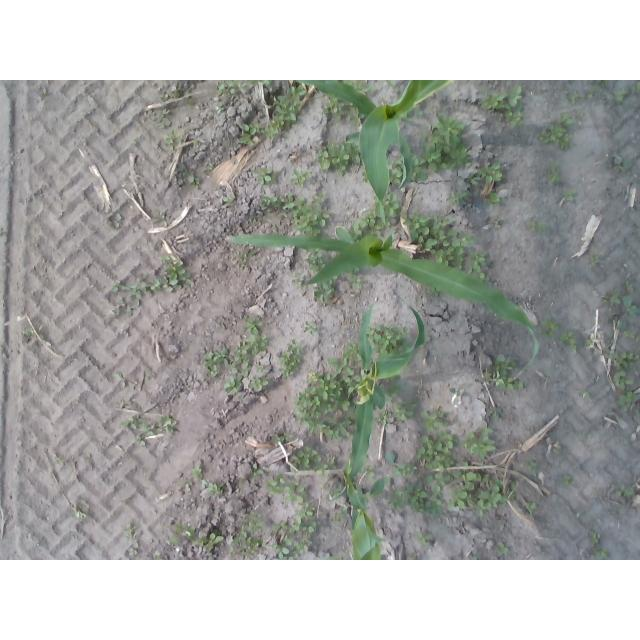Maize: (225, 226, 540, 383), (299, 80, 454, 224), (350, 288, 427, 535), (343, 456, 393, 560)
Weeds: (110, 253, 192, 316), (294, 358, 355, 441), (452, 461, 517, 516), (262, 192, 331, 236), (270, 501, 318, 560), (389, 473, 450, 519), (421, 115, 470, 170), (404, 212, 476, 248), (119, 414, 178, 447), (482, 87, 523, 130), (230, 510, 265, 560), (169, 524, 224, 552), (416, 430, 456, 468), (483, 354, 525, 390), (319, 141, 362, 175), (275, 84, 306, 128), (292, 447, 336, 476), (369, 451, 397, 494), (267, 473, 305, 504), (368, 325, 410, 353), (609, 296, 640, 333), (279, 339, 306, 378), (462, 427, 497, 457), (232, 334, 268, 363), (223, 363, 249, 395), (203, 348, 229, 379), (350, 213, 381, 239), (539, 126, 570, 151), (604, 350, 640, 369), (423, 409, 449, 430), (477, 163, 504, 182), (432, 248, 464, 264), (391, 401, 417, 420), (470, 250, 487, 278), (449, 382, 467, 406), (612, 371, 634, 390), (217, 80, 246, 94), (234, 247, 254, 266), (290, 168, 311, 186), (324, 95, 345, 113), (389, 159, 403, 186), (201, 479, 222, 497), (116, 371, 137, 389), (243, 316, 264, 334), (386, 375, 403, 397), (313, 283, 332, 302), (345, 342, 363, 362), (122, 524, 143, 541), (384, 195, 401, 216), (162, 131, 180, 150), (307, 251, 325, 270), (248, 376, 268, 393), (617, 393, 639, 408), (253, 168, 272, 185), (615, 156, 634, 173), (331, 507, 350, 524), (445, 189, 468, 203), (238, 125, 254, 145), (152, 208, 168, 228), (414, 155, 427, 179), (548, 161, 561, 182), (603, 293, 622, 307), (270, 433, 294, 444), (418, 532, 435, 547), (357, 465, 374, 480), (126, 544, 141, 561), (543, 321, 557, 339), (346, 108, 362, 123), (560, 331, 577, 345), (618, 483, 635, 497), (397, 464, 416, 476), (490, 190, 508, 202), (529, 221, 548, 232), (353, 80, 370, 92), (303, 321, 317, 335), (350, 274, 363, 288), (263, 126, 278, 138), (251, 463, 263, 478), (177, 163, 185, 185), (524, 461, 538, 473), (589, 253, 600, 268), (374, 412, 386, 425), (110, 214, 122, 227), (291, 273, 304, 285), (589, 531, 599, 546), (495, 545, 510, 555), (188, 176, 200, 188), (560, 114, 573, 125), (523, 501, 537, 511), (566, 189, 577, 201), (467, 174, 479, 185), (158, 117, 171, 127), (559, 475, 570, 486), (222, 195, 234, 205), (625, 281, 635, 293), (492, 408, 501, 421), (595, 550, 608, 559), (623, 330, 637, 338), (254, 364, 266, 373), (571, 93, 581, 103), (631, 82, 640, 93), (618, 88, 626, 100), (192, 466, 204, 474), (374, 197, 380, 212), (387, 81, 399, 88), (194, 140, 203, 149), (215, 106, 225, 114), (414, 105, 422, 115), (579, 113, 585, 126), (596, 80, 608, 86), (75, 506, 81, 518), (361, 172, 367, 183), (172, 89, 180, 97), (253, 123, 260, 132), (584, 339, 593, 346), (588, 87, 594, 97), (160, 94, 168, 101), (189, 98, 196, 106), (42, 88, 48, 97), (405, 115, 412, 122), (385, 218, 391, 226), (204, 167, 213, 172), (53, 454, 59, 461), (495, 221, 501, 227), (262, 80, 270, 84), (636, 336, 640, 344), (583, 392, 589, 397), (249, 80, 256, 84), (474, 556, 479, 560)
